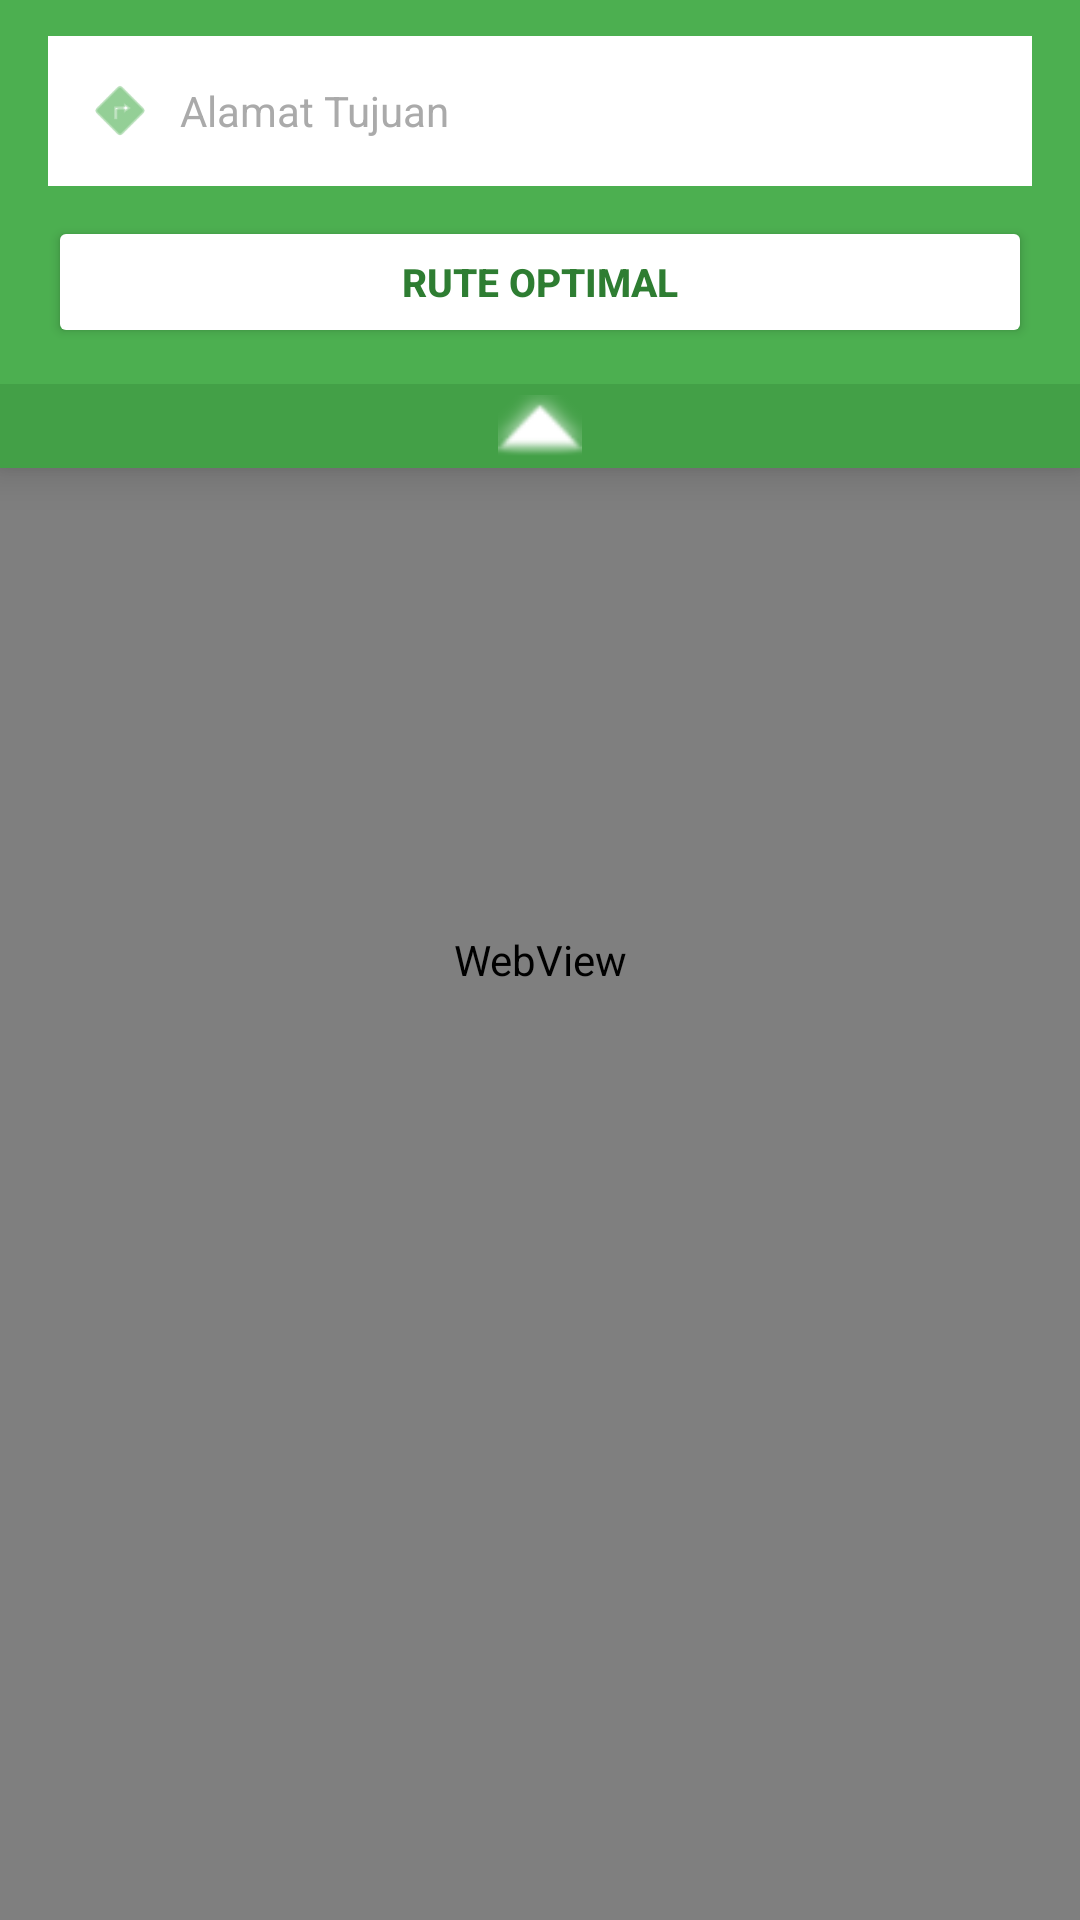

Where icons sit on this 1080*1920 app screen, as (x1, y1, x2, y2):
Ikon Arah: (95, 86, 145, 135)
Toggle Panel: (498, 399, 582, 453)
